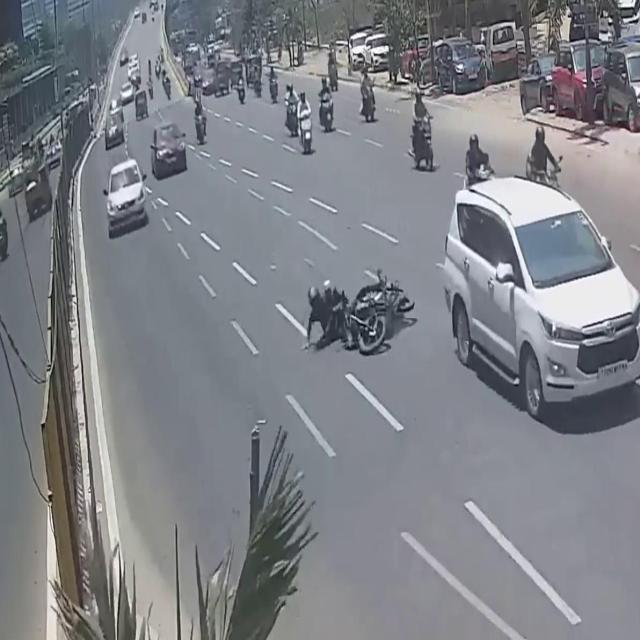accident: (302, 265, 422, 371)
non_accident: (513, 38, 640, 134), (396, 26, 484, 90), (190, 29, 258, 103), (345, 14, 395, 82), (110, 39, 148, 125)
